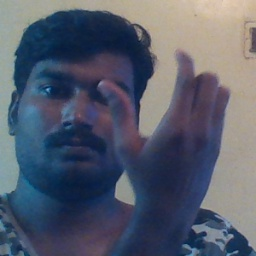U: (92, 38, 235, 180)
